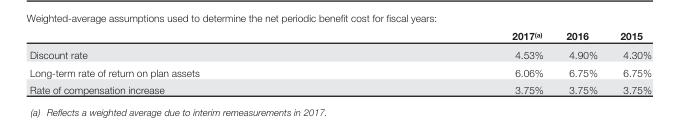table: (28, 29, 650, 95)
table column: (28, 29, 355, 95), (355, 29, 554, 95), (554, 29, 608, 95), (608, 29, 650, 95)
table column header: (28, 29, 650, 44)
table row: (28, 44, 650, 63), (28, 63, 650, 80), (28, 29, 650, 44), (28, 80, 650, 95)
